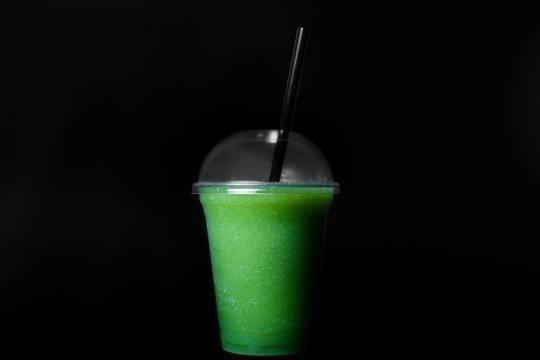cup-disposable: (191, 125, 340, 358)
